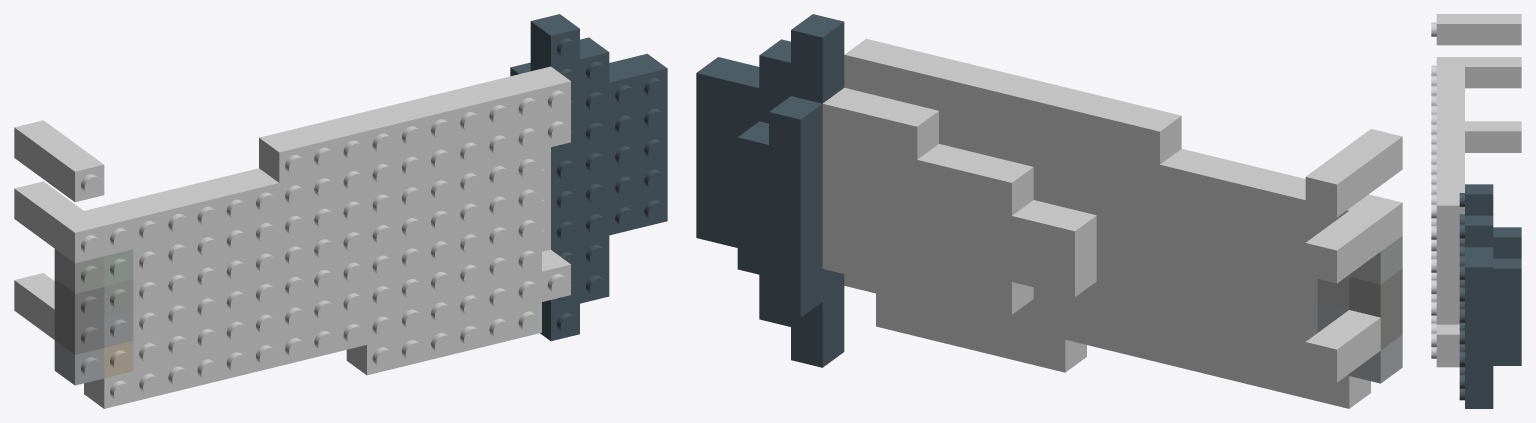
The model's file is full.glb.
The picture shows the model from 3 angles, left to right: view 1: azimuth 30°, elevation 25°; view 2: azimuth 150°, elevation 25°; view 3: azimuth 270°, elevation 25°; orthographic projection. The views are drawn at different scales.
Visible parts, largest first — view 1: world; view 2: world; view 3: world.
Boxes of the visible parts, bbox=[...] form: world: bbox=[14, 14, 667, 408]; world: bbox=[696, 14, 1402, 408]; world: bbox=[1431, 14, 1521, 408].
Size of the model in its own units: 168 by 80 by 30.6.
